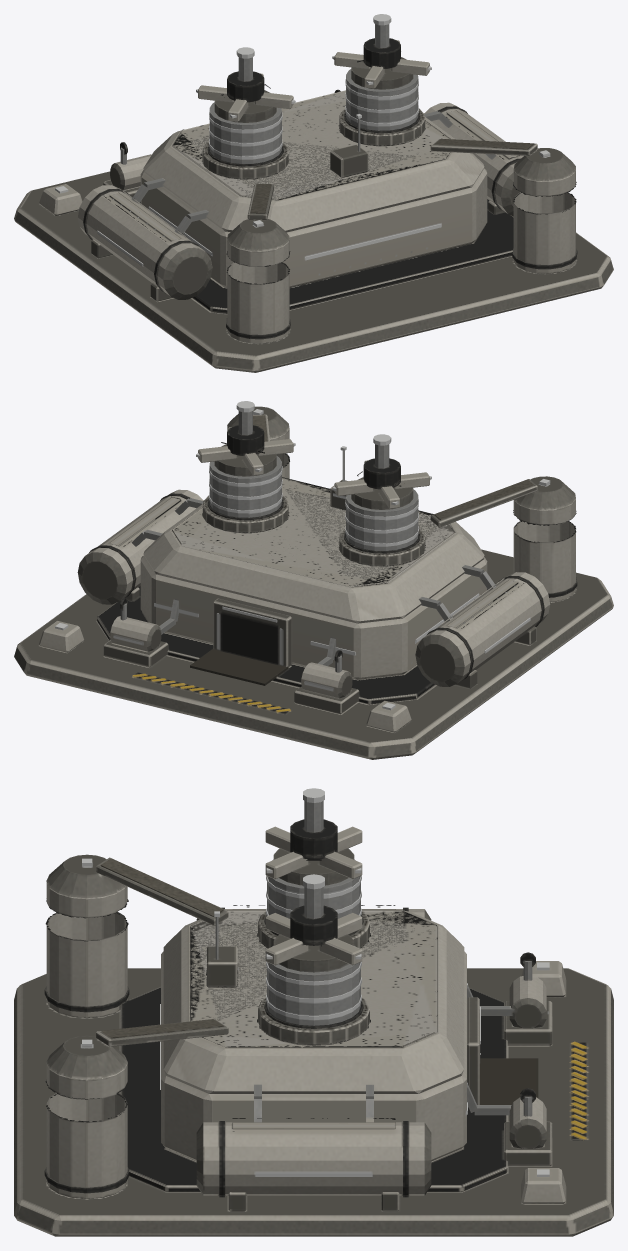
The model's file is ord_advextractor.fbx.
3 renders of one model, top to bottom at view 1: azimuth 30°, elevation 25°; view 2: azimuth 150°, elevation 25°; view 3: azimuth 270°, elevation 25°, orthographic. The views are drawn at different scales.
Visible parts, largest first — view 1: base_bar, drillL_bar, drillR_bar, drillL_glow_power_bar, drillR_glow_power_bar, base_glow_power_bar; view 2: base_bar, drillR_bar, drillL_bar, drillL_glow_power_bar, drillR_glow_power_bar, base_glow_running_bar, base_glow_power_bar; view 3: base_bar, drillR_bar, drillL_bar, drillR_glow_power_bar, base_glow_running_bar, drillL_glow_power_bar.
Part boxes in pixels (left/top/right/bottom): base_bar: left=14, top=89, right=613, bottom=372; drillL_bar: left=198, top=57, right=293, bottom=163; drillR_bar: left=334, top=24, right=429, bottom=130; drillL_glow_power_bar: left=209, top=47, right=282, bottom=159; drillR_glow_power_bar: left=345, top=14, right=418, bottom=126; base_glow_power_bar: left=148, top=206, right=441, bottom=260; base_bar: left=14, top=406, right=613, bottom=759; drillR_bar: left=198, top=411, right=293, bottom=517; drillL_bar: left=334, top=444, right=429, bottom=550; drillL_glow_power_bar: left=345, top=434, right=418, bottom=546; drillR_glow_power_bar: left=209, top=401, right=282, bottom=513; base_glow_running_bar: left=55, top=409, right=550, bottom=710; base_glow_power_bar: left=113, top=593, right=479, bottom=691; base_bar: left=14, top=854, right=613, bottom=1236; drillR_bar: left=265, top=887, right=362, bottom=1025; drillL_bar: left=265, top=801, right=362, bottom=918; drillR_glow_power_bar: left=266, top=874, right=361, bottom=1019; base_glow_running_bar: left=82, top=858, right=549, bottom=1176; drillL_glow_power_bar: left=266, top=788, right=361, bottom=915.
Size of the model in its own units: 2353 by 1391 by 2353.
Materials: 2 (2 with a texture image).
